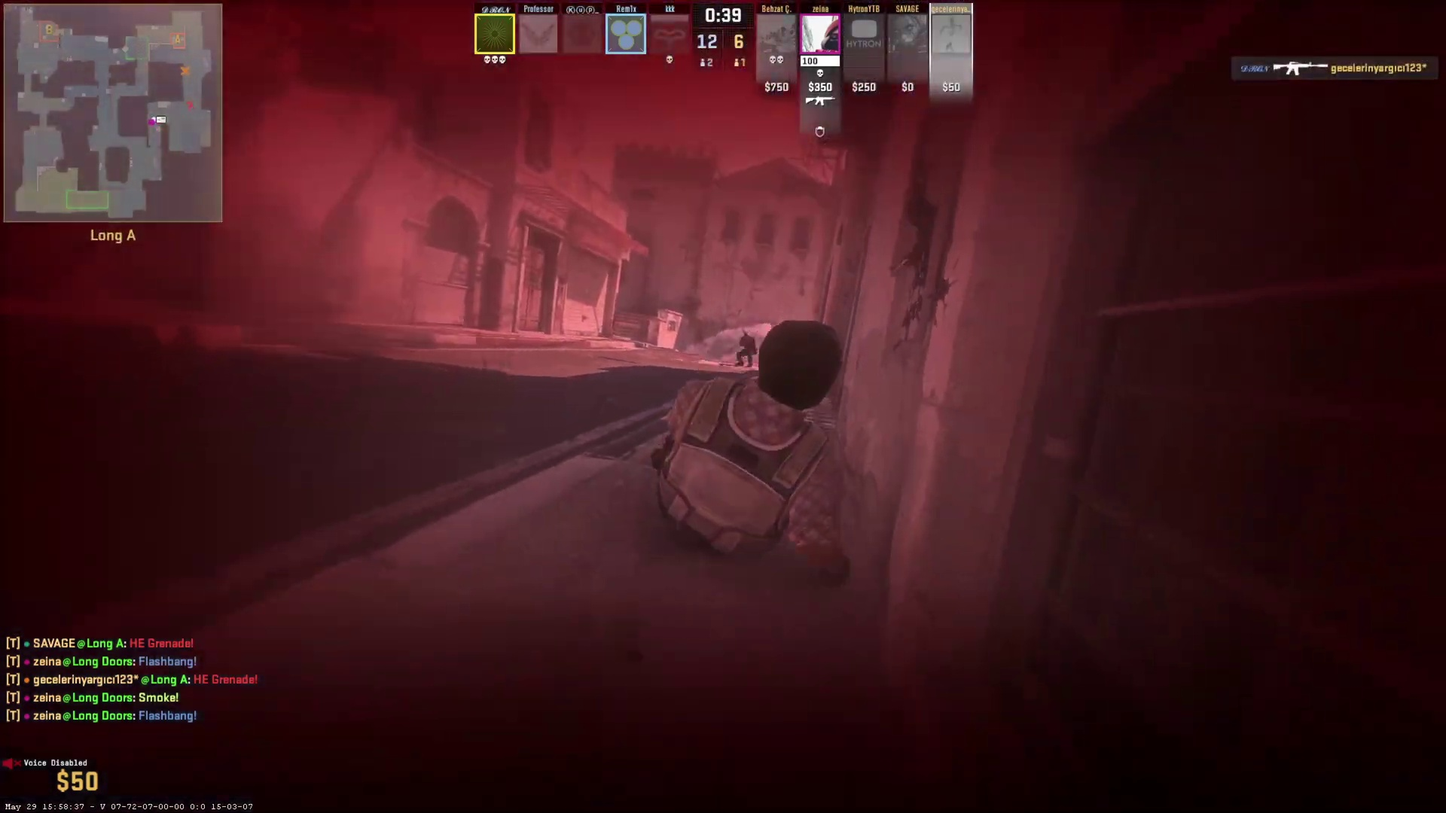CT: (735, 333, 757, 366)
